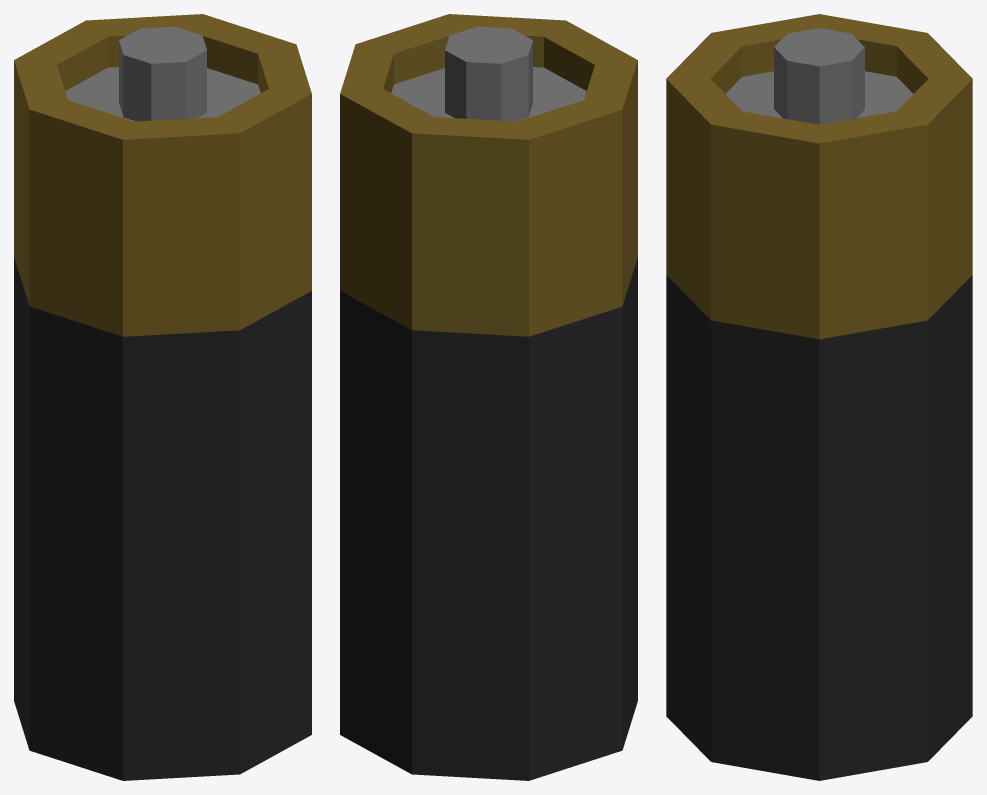
The model's file is Bettery.fbx.
The picture shows the model from 3 angles, left to right: view 1: azimuth 30°, elevation 25°; view 2: azimuth 150°, elevation 25°; view 3: azimuth 270°, elevation 25°; orthographic projection.
Parts seen in each view (by area): view 1: pCylinder1; view 2: pCylinder1; view 3: pCylinder1.
Part boxes in pixels (x1,y1,x2,y2): pCylinder1: (14, 14, 311, 780); pCylinder1: (340, 14, 637, 780); pCylinder1: (666, 14, 972, 780).
Bounding box in the file's own units: 1.4 × 3.37 × 1.4.
